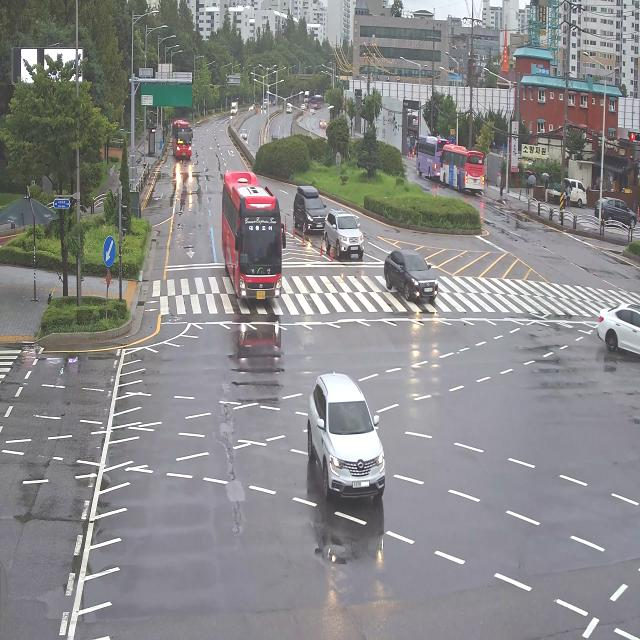Bus: (214, 159, 288, 320), (441, 138, 490, 204), (414, 128, 443, 185), (168, 117, 200, 159)
Car: (296, 347, 400, 531), (595, 278, 640, 370), (384, 247, 438, 318), (320, 202, 369, 268), (289, 173, 335, 242)
